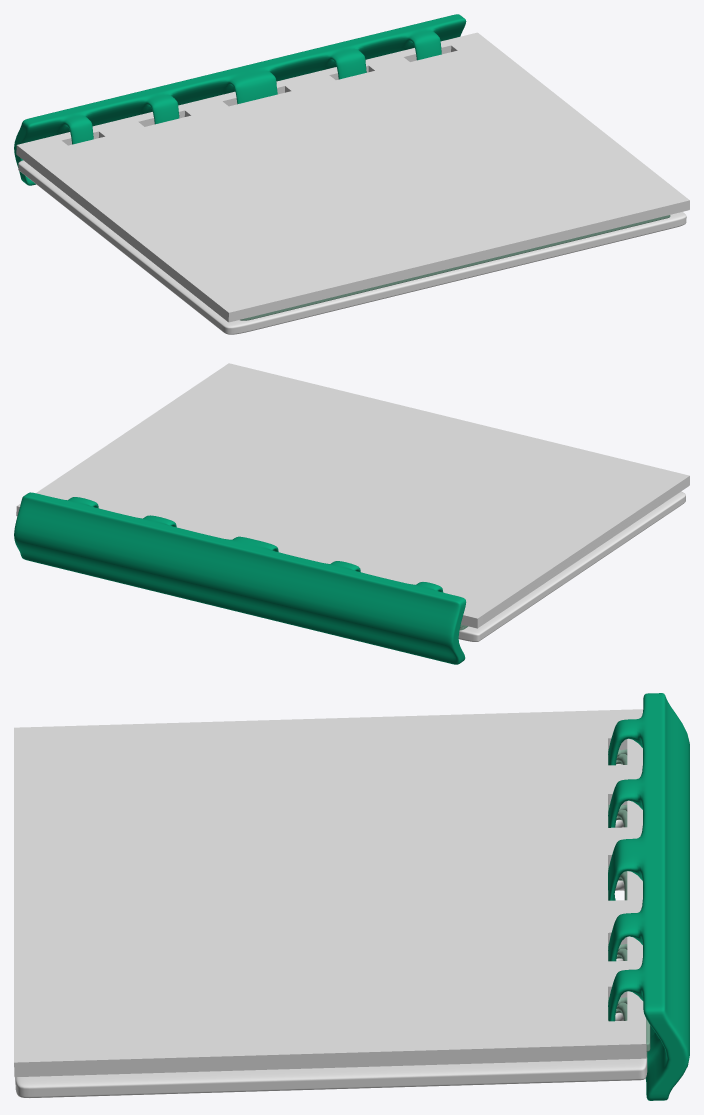
Rendered from SM_Cook_book.fbx.
The picture shows the model from 3 angles, top to bottom: view 1: azimuth 30°, elevation 25°; view 2: azimuth 150°, elevation 25°; view 3: azimuth 270°, elevation 25°; orthographic projection. The views are drawn at different scales.
Visible parts, largest first — view 1: cover, book_bridge, cover_back, book; view 2: cover, book_bridge, cover_back; view 3: cover, book_bridge, cover_back, book.
Part boxes in pixels (x1,y1,x2,y2): cover: (16, 32, 689, 322); book_bridge: (14, 14, 466, 185); cover_back: (18, 160, 686, 334); book: (240, 215, 670, 320); cover: (16, 363, 689, 628); book_bridge: (14, 492, 466, 664); cover_back: (458, 491, 685, 641); cover: (14, 709, 646, 1077); book_bridge: (608, 693, 689, 1100); cover_back: (15, 764, 647, 1098); book: (608, 749, 650, 1057).
Size of the model in its own units: 23.5 by 3.1 by 20.04.
